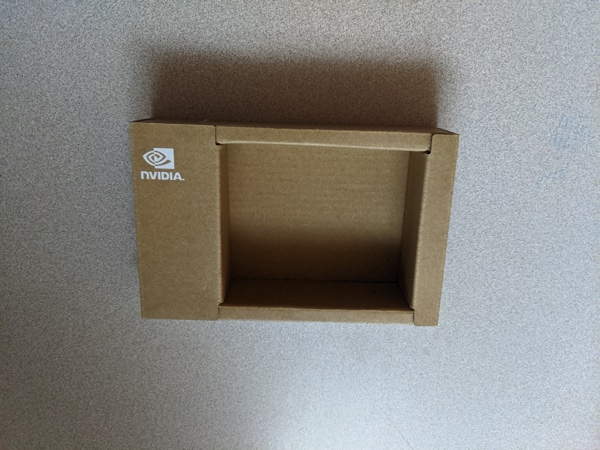cardboard: (114, 98, 468, 347)
